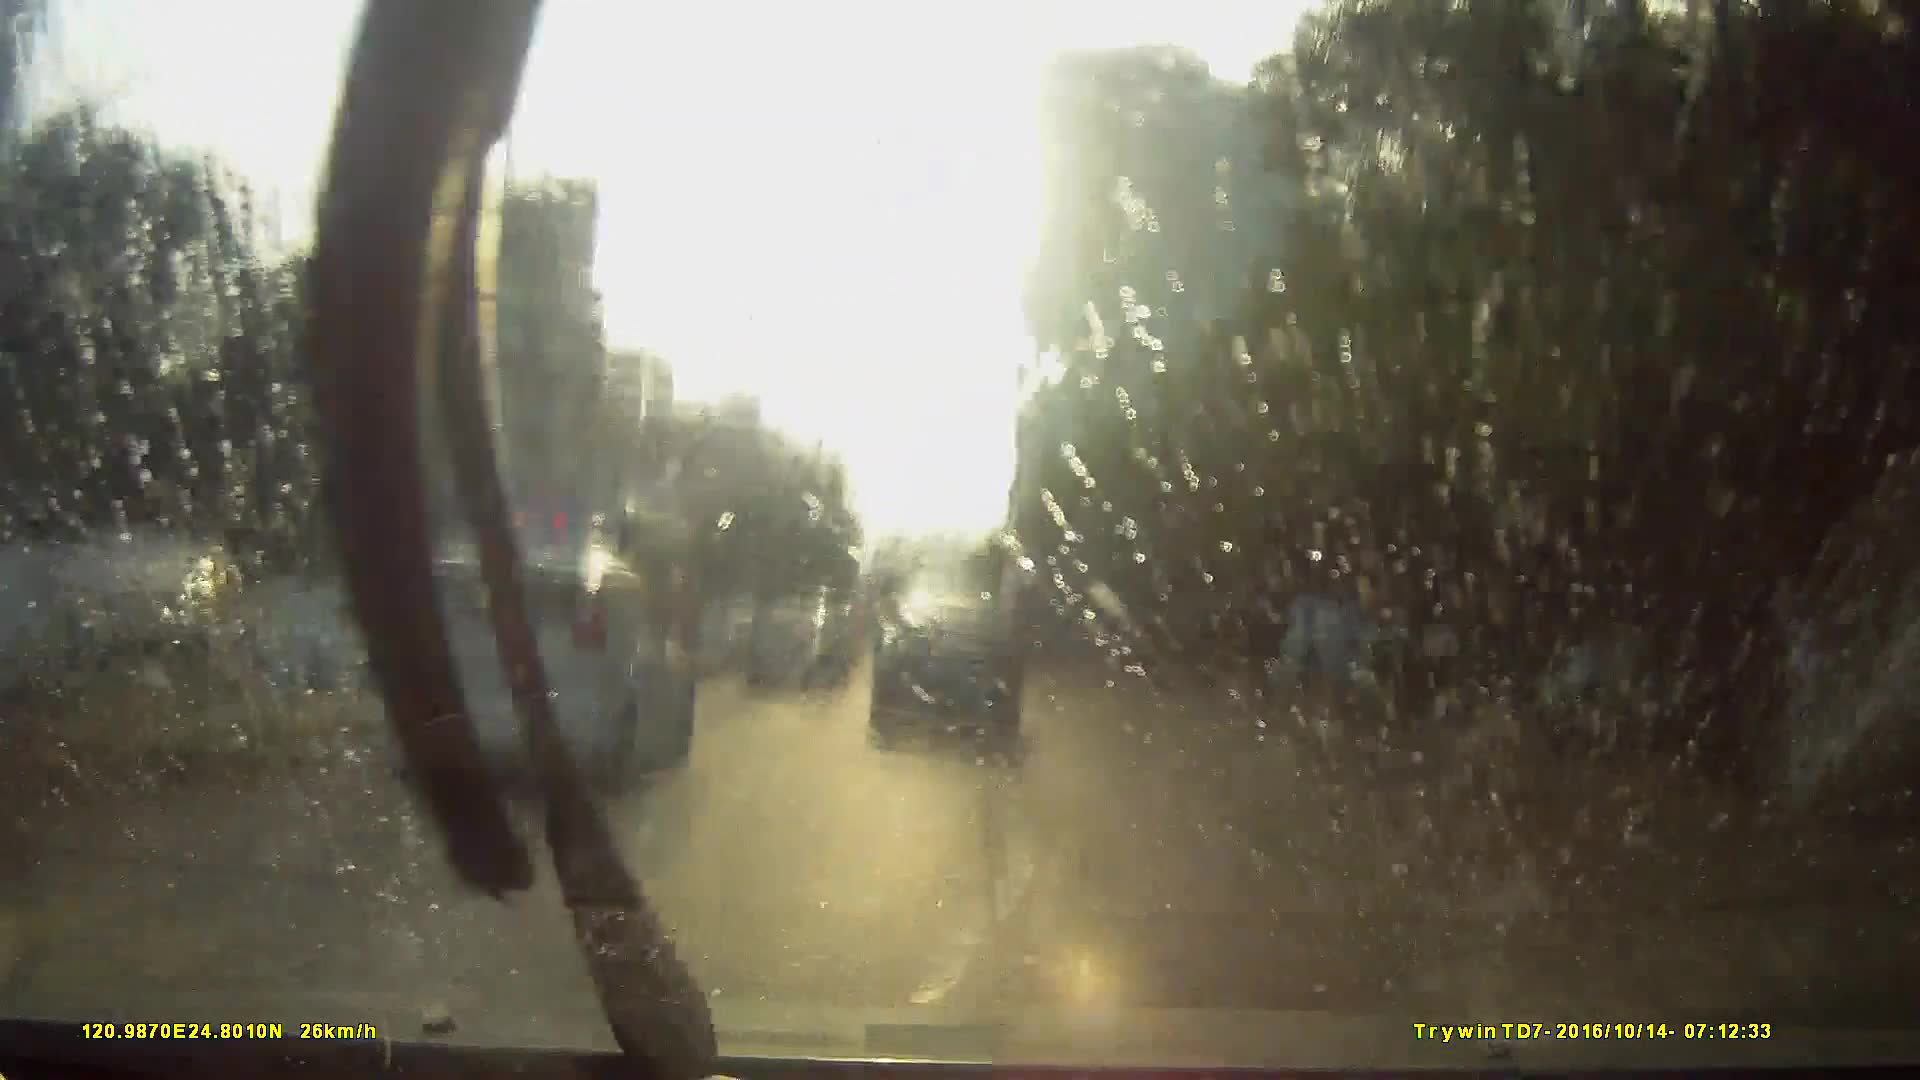vehicle: (251, 556, 684, 868), (384, 546, 698, 793), (460, 487, 717, 675), (869, 597, 1022, 756), (997, 556, 1102, 683), (737, 611, 847, 696), (866, 638, 915, 687)
